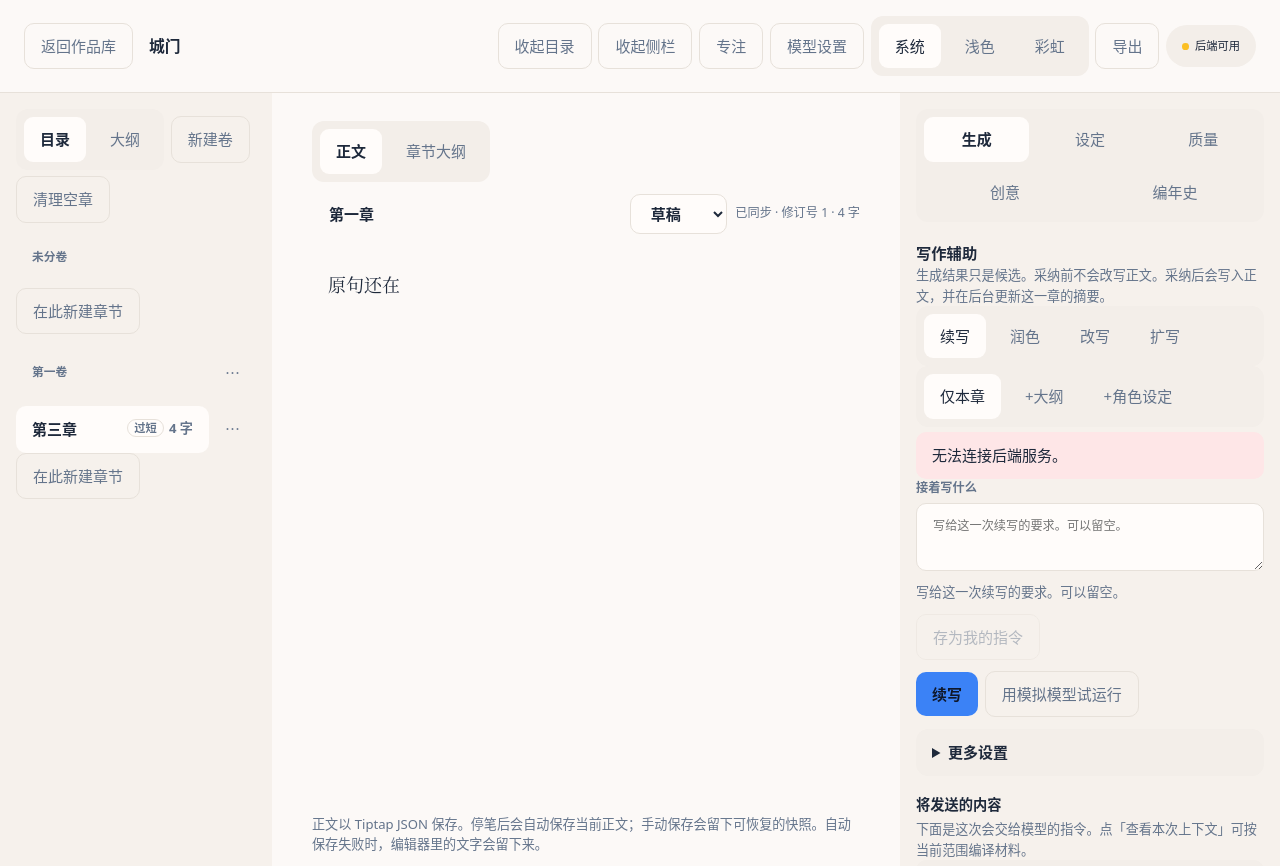
Test: WorkspacePage planning view › keeps volume and right-click menus compact
This screenshot has width=1280, height=866.
Click the button named "第一卷的操作" at (232, 374), box left=209, top=354, right=256, bottom=393
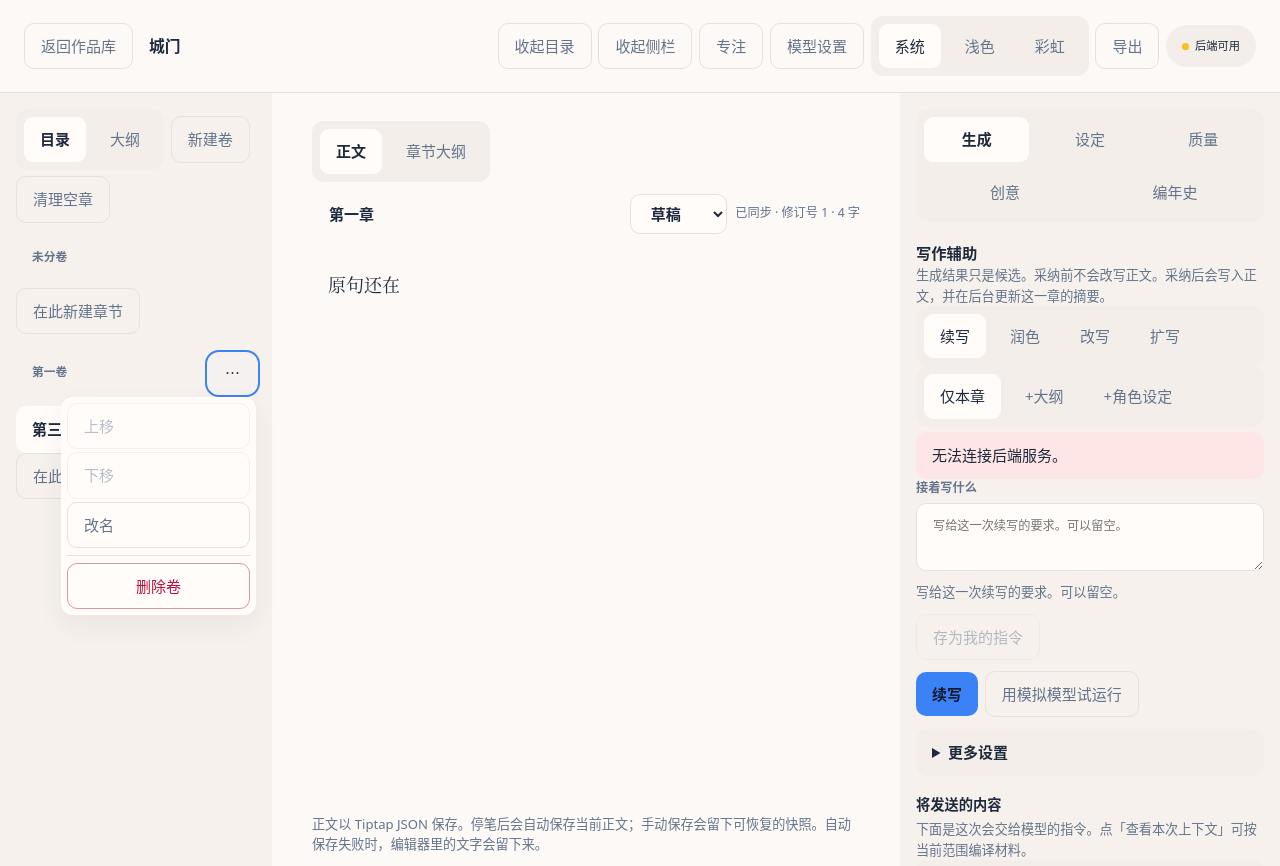
expect the menu item "删除卷" is shown: met, box left=67, top=563, right=250, bottom=609
Press Escape
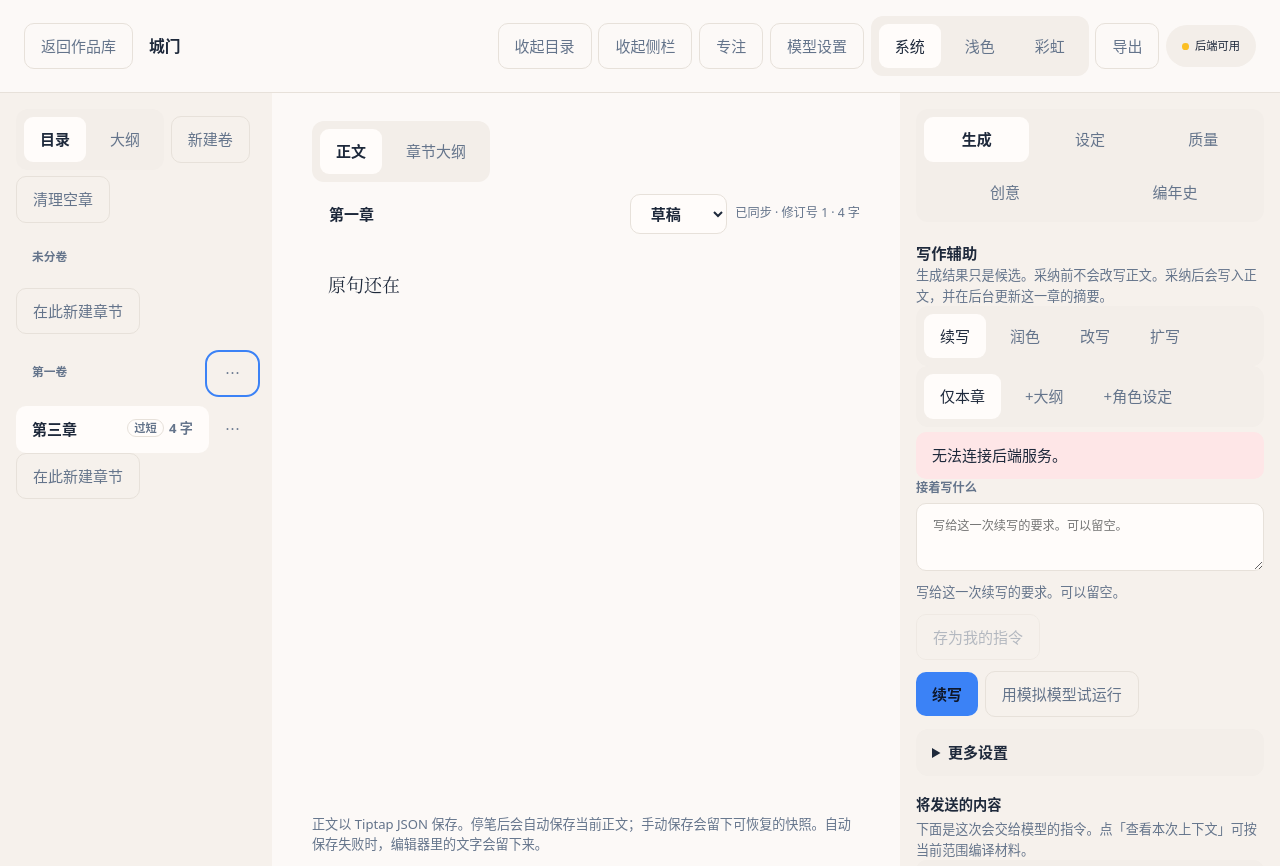
expect the menu is gone: met
Right-click the list item named "第三章，4 字" at (136, 430), box left=16, top=406, right=256, bottom=453
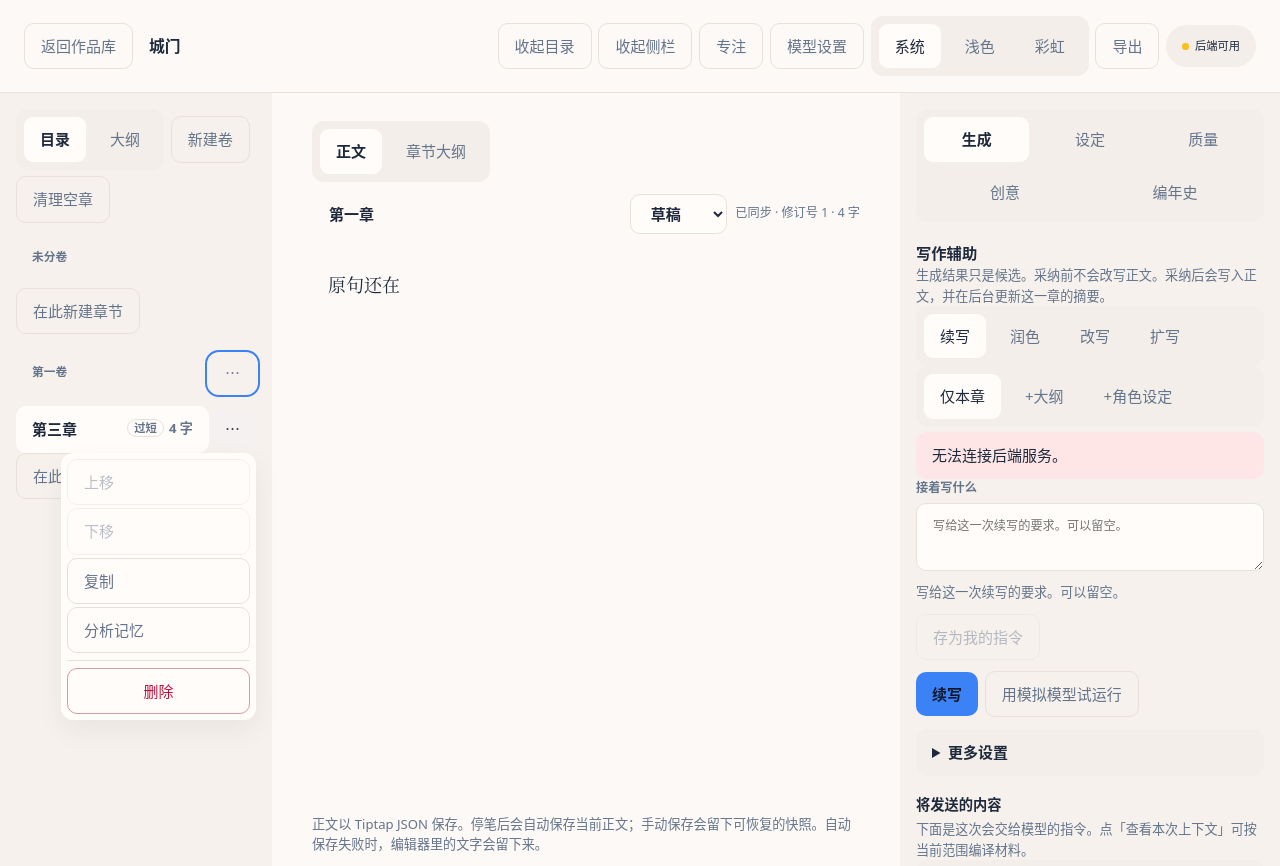
expect the menu item "删除" is shown: met, box left=67, top=668, right=250, bottom=714
